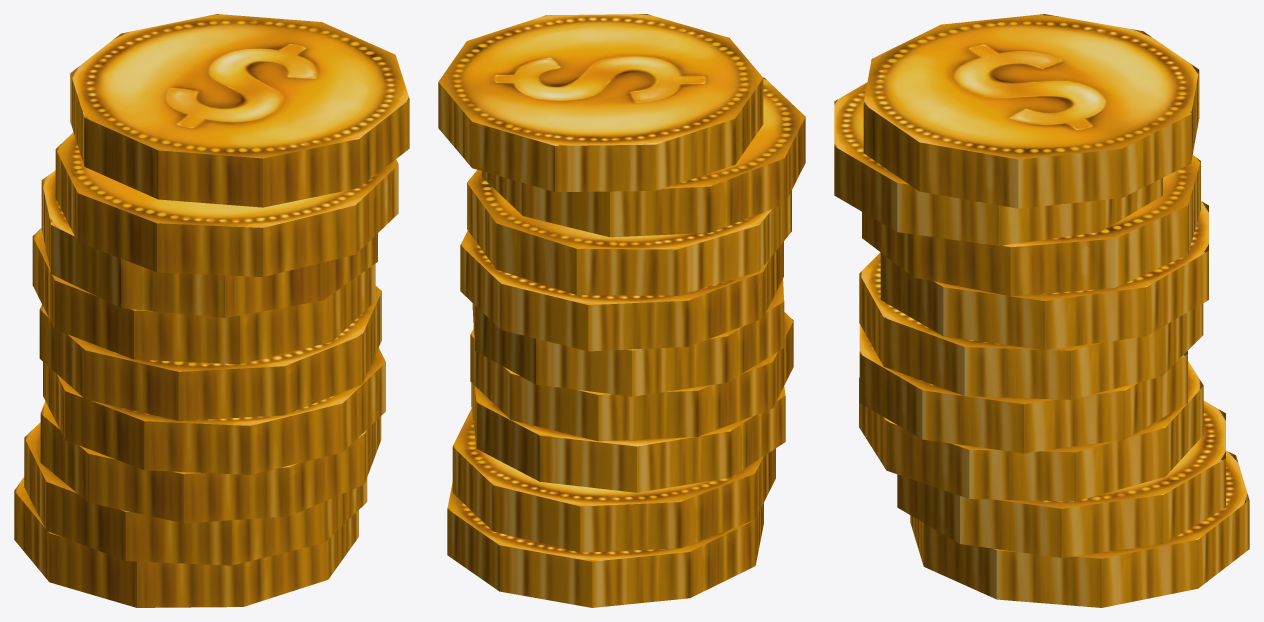
Rendered from coin_009.fbx.
3 renders of one model, left to right at view 1: azimuth 30°, elevation 25°; view 2: azimuth 150°, elevation 25°; view 3: azimuth 270°, elevation 25°, orthographic. The views are drawn at different scales.
Parts seen in each view (by area): view 1: coin_009; view 2: coin_009; view 3: coin_009.
Boxes of the visible parts, <box> form: coin_009: <box>14,14,409,607</box>; coin_009: <box>438,14,805,607</box>; coin_009: <box>834,14,1249,607</box>.
Size of the model in its own units: 4.66 by 6.29 by 5.11.
